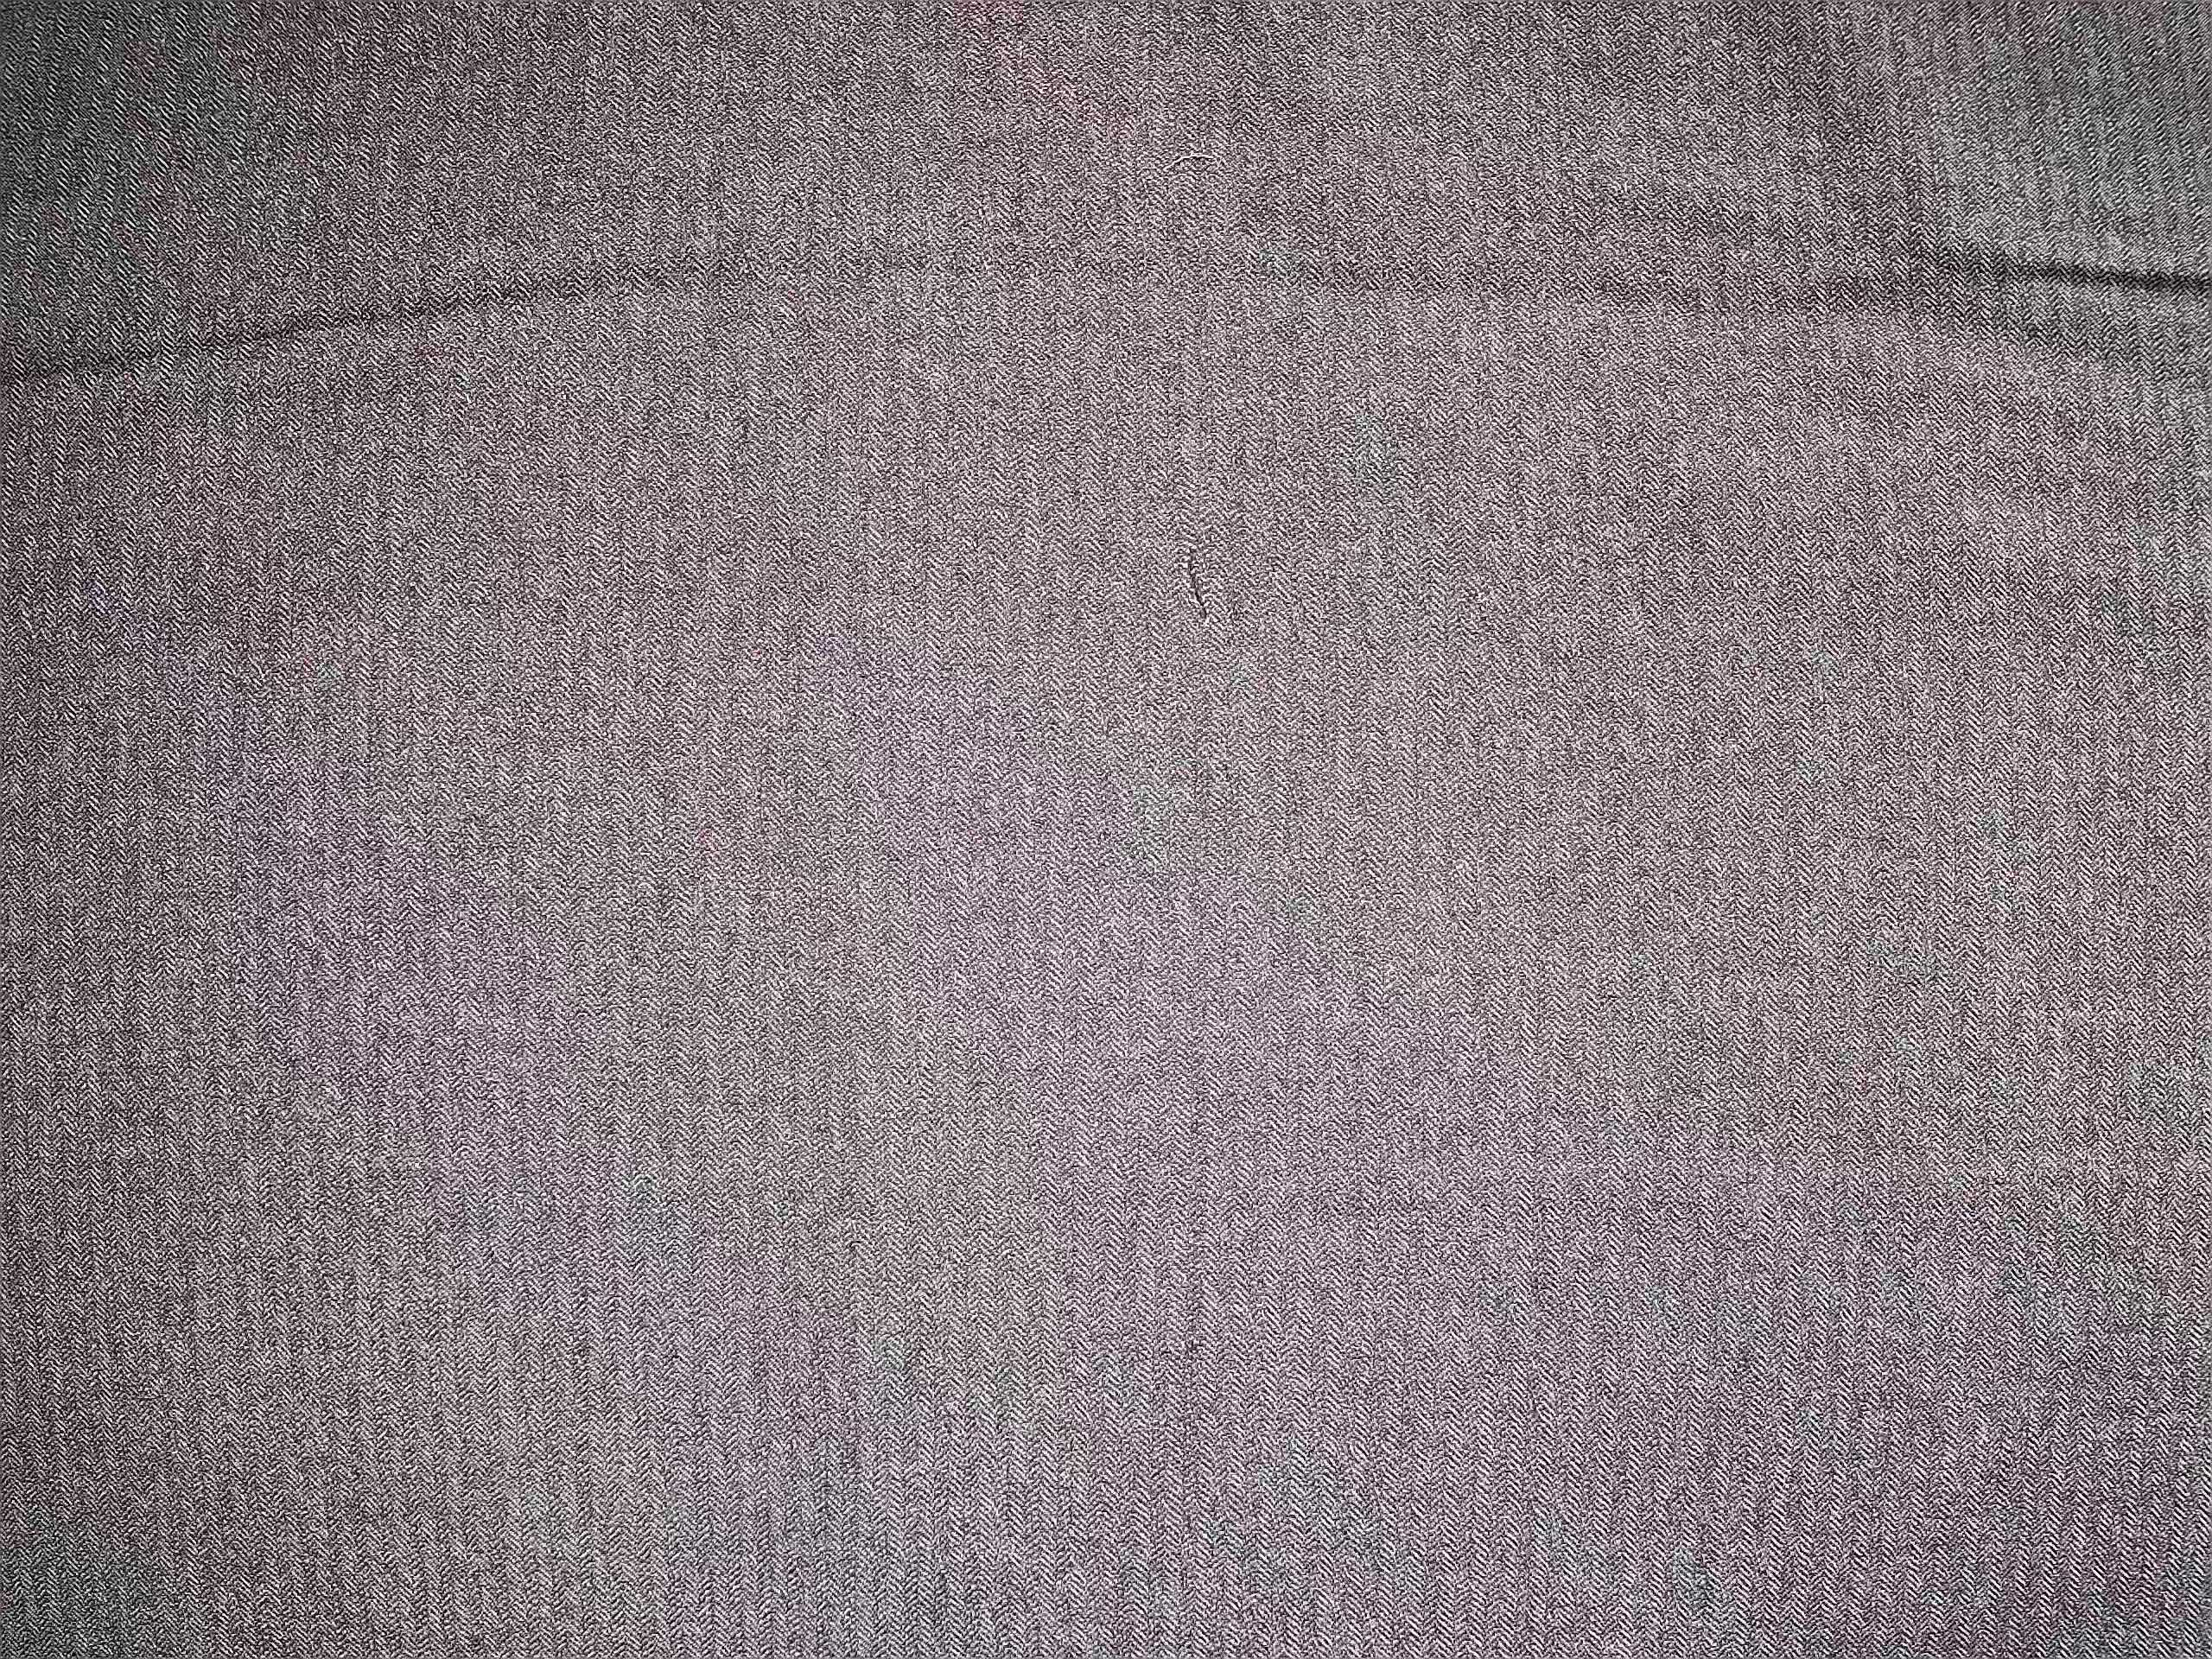rubbing-hole: (1165, 532, 1226, 631)
